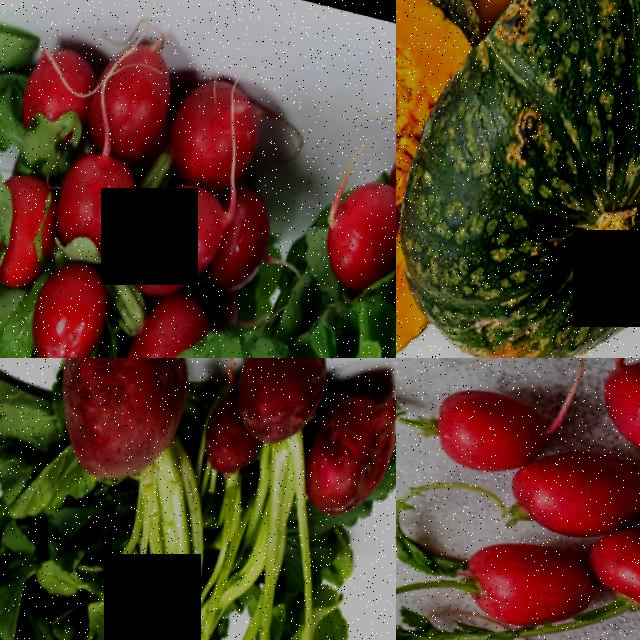pumpkin: (396, 0, 640, 358), (396, 0, 464, 358)
radishes: (0, 4, 313, 358), (2, 358, 241, 576), (172, 358, 396, 585), (284, 28, 396, 358)
spinach: (428, 523, 600, 640), (410, 372, 560, 487), (502, 437, 640, 555), (584, 358, 640, 477), (594, 518, 640, 632)
